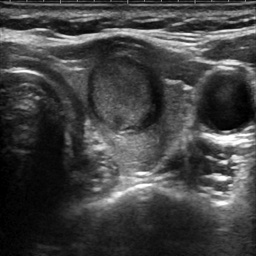mass: (90, 54, 165, 129)
